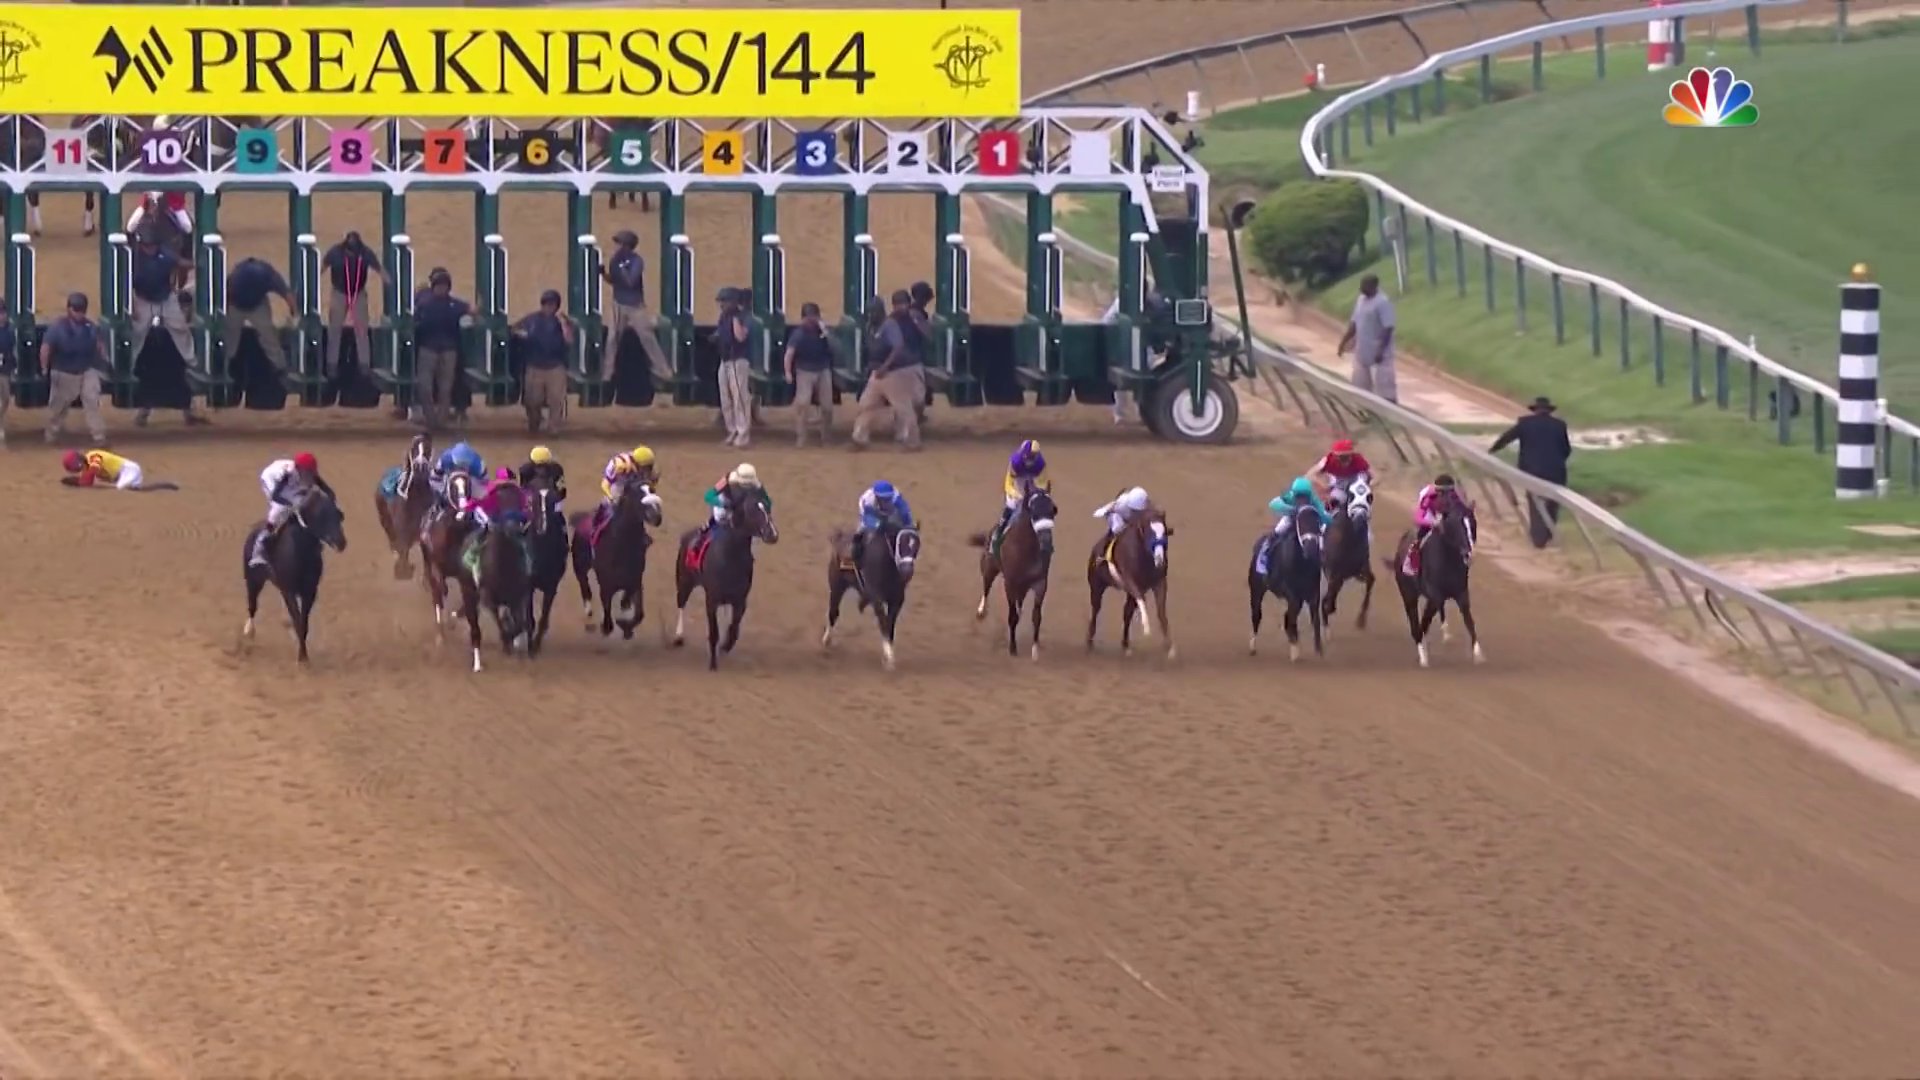jockey: (1407, 479, 1472, 587), (603, 444, 657, 549), (262, 456, 316, 545), (708, 464, 764, 546), (1006, 440, 1048, 545), (1102, 489, 1153, 574), (1269, 480, 1319, 563), (516, 448, 564, 529), (1321, 442, 1364, 527), (855, 485, 909, 551), (440, 447, 480, 516)
